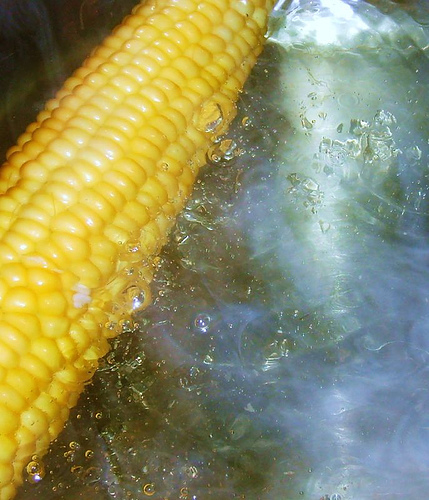corn: (1, 1, 273, 498)
